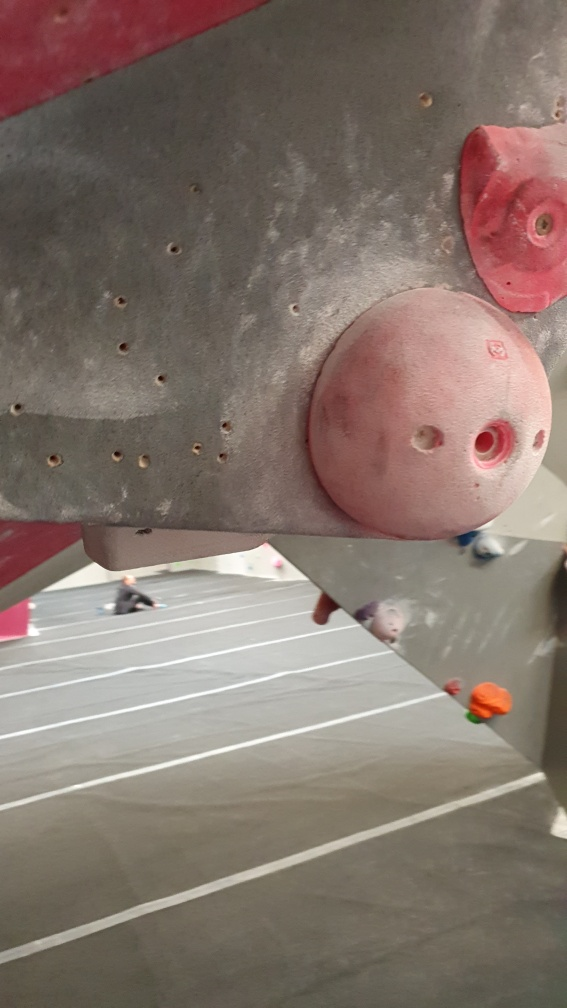Sloper: (305, 281, 552, 546)
